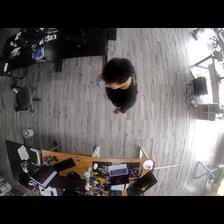normal: (98, 57, 140, 116)
